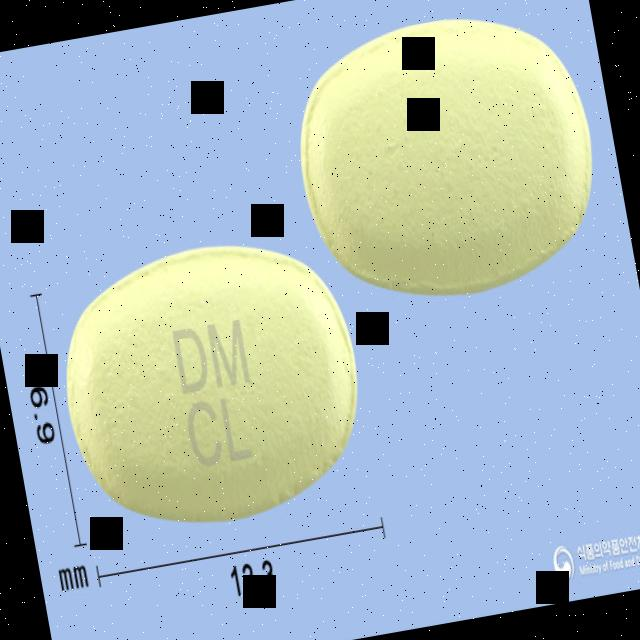Reclarcin Tab: (43, 221, 377, 543)
